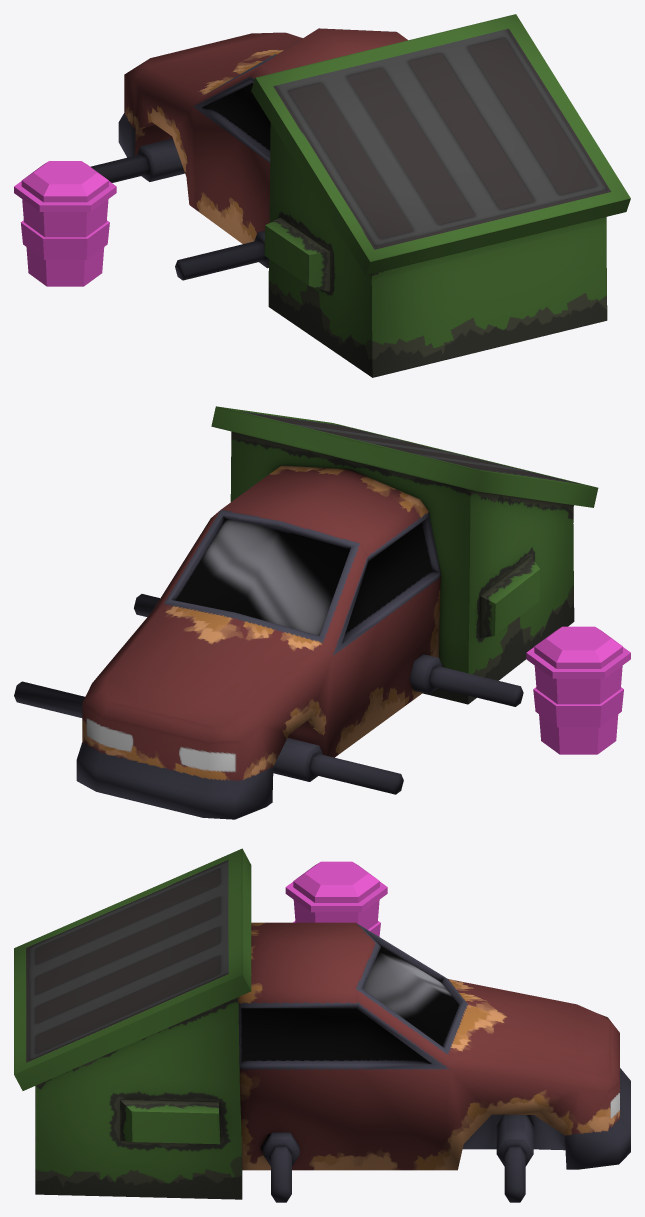
The model's file is PlayerVehicle.fbx.
3 views of the same model, one above another, from view 1: azimuth 30°, elevation 25°; view 2: azimuth 150°, elevation 25°; view 3: azimuth 270°, elevation 25° (orthographic). The views are drawn at different scales.
Parts seen in each view (by area): view 1: Car, Trash Can; view 2: Car, Trash Can; view 3: Car, Trash Can.
Boxes of the visible parts, x1,y1,x2,y2 form: Car: (90, 14, 630, 377); Trash Can: (14, 161, 116, 286); Car: (14, 406, 598, 819); Trash Can: (526, 626, 630, 754); Car: (14, 848, 630, 1202); Trash Can: (285, 861, 387, 936).
Bounding box in the file's own units: 564 × 252 × 609.
